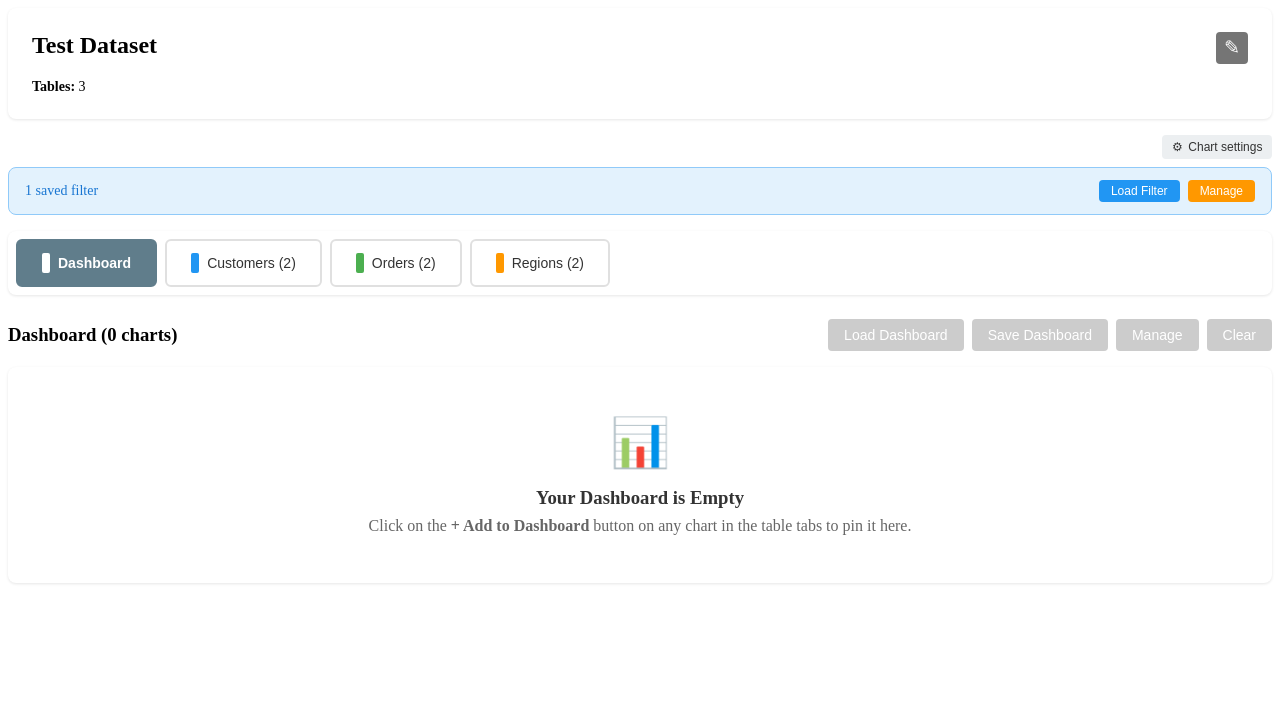
Test: DatasetExplorer › Filter Presets › applying a preset restores count-by selections
The image size is (1280, 720).
Check: the heading "Test Dataset" is shown, box [32,32,157,58]
Click the button "Load Filter" at (1139, 190), box [1099,180,1180,202]
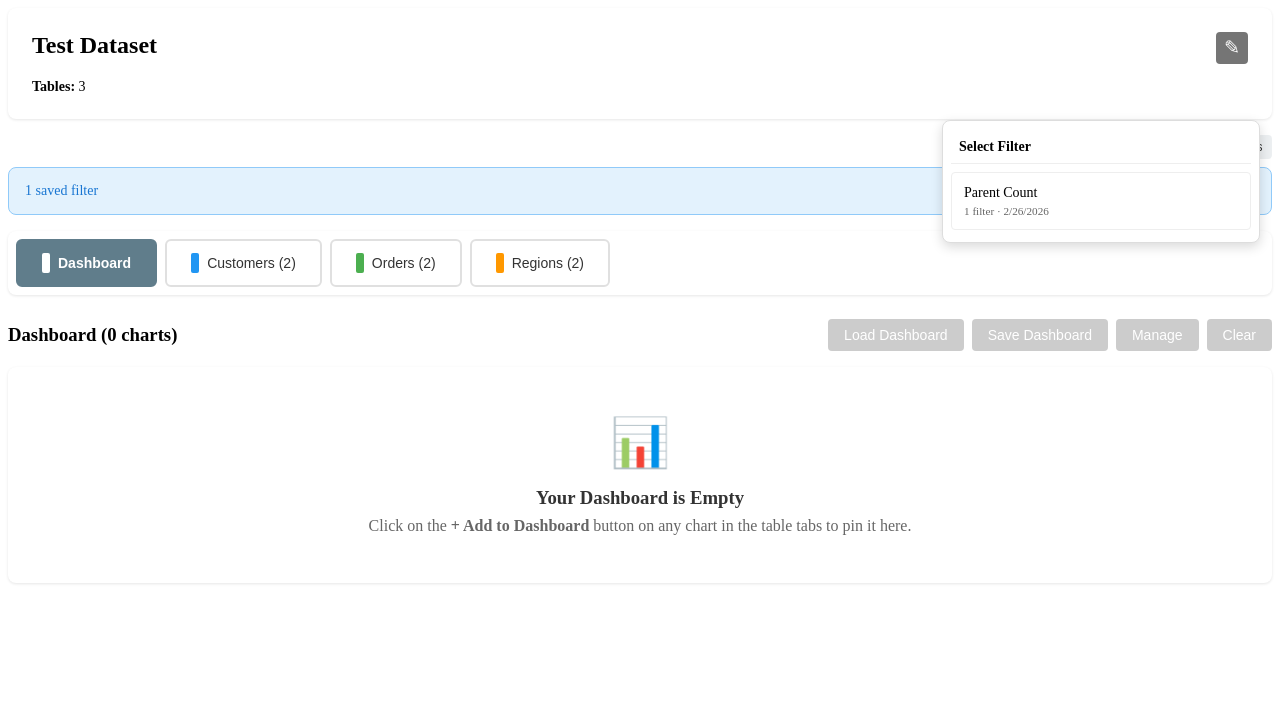
Click the text "Parent Count" at (1001, 192), box [964,185,1038,200]
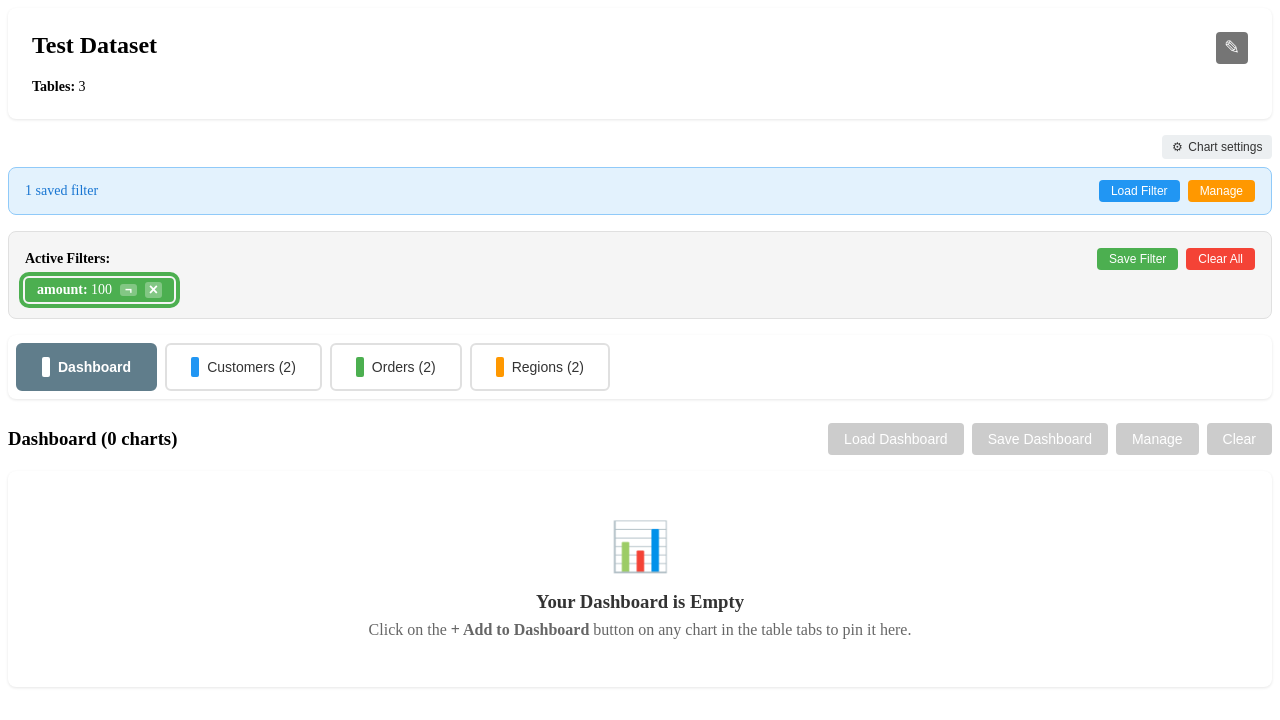
Check: the heading "Test Dataset" is shown, box [32,32,157,58]
Click the button "Orders (2)" at (396, 366), box [330,342,462,390]
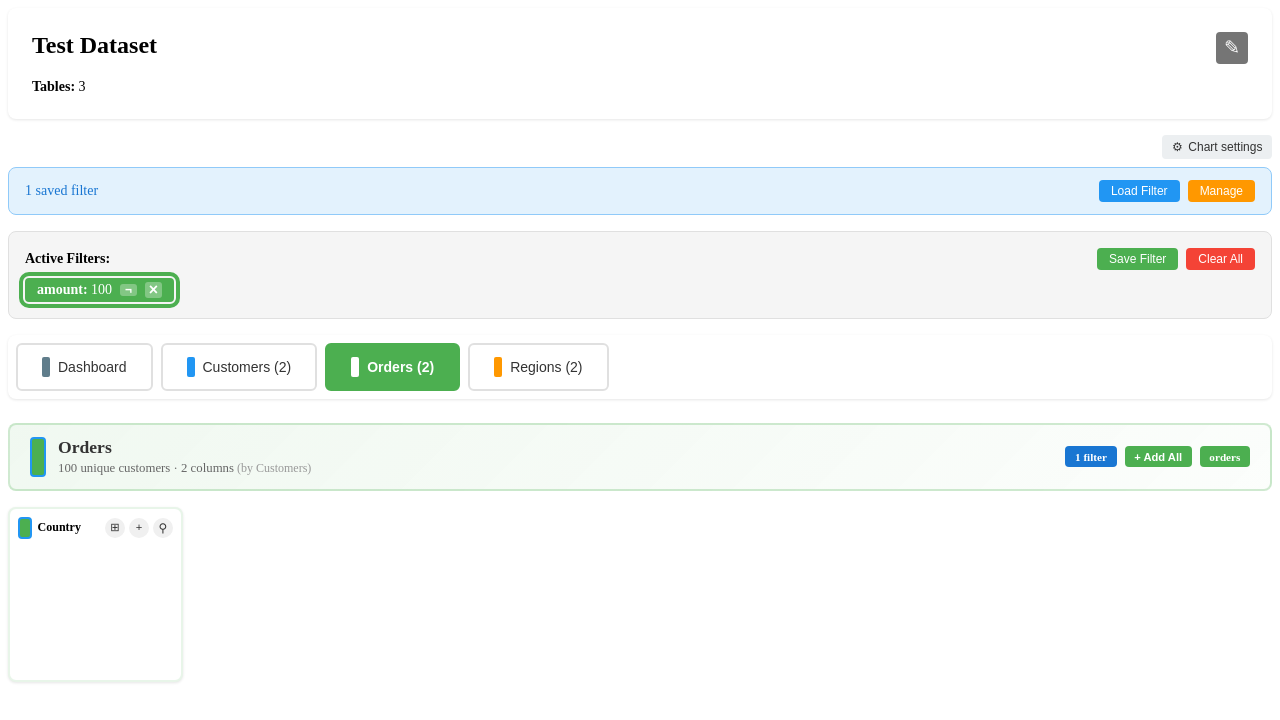
Check: the button named "Change count-by for orders" is shown, box [30,436,46,476]
